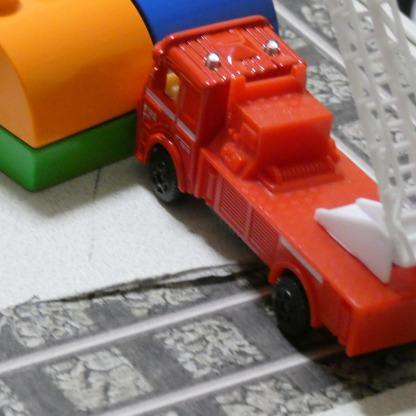car: (135, 12, 416, 368)
